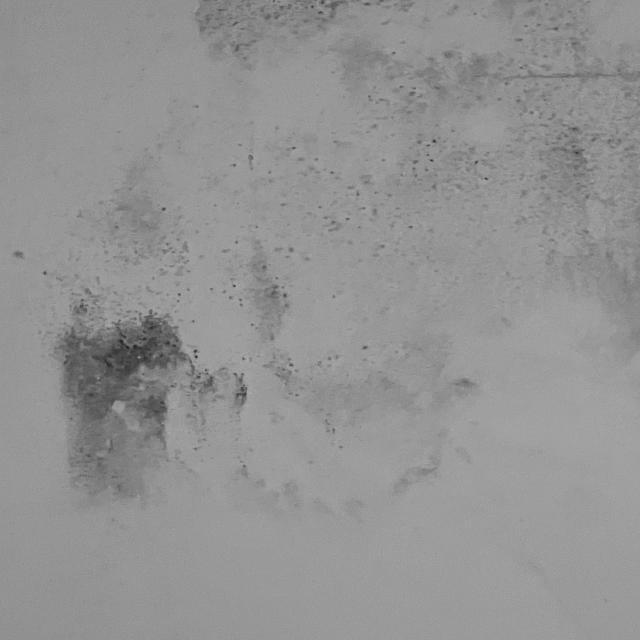stain marks: (12, 0, 640, 557)
